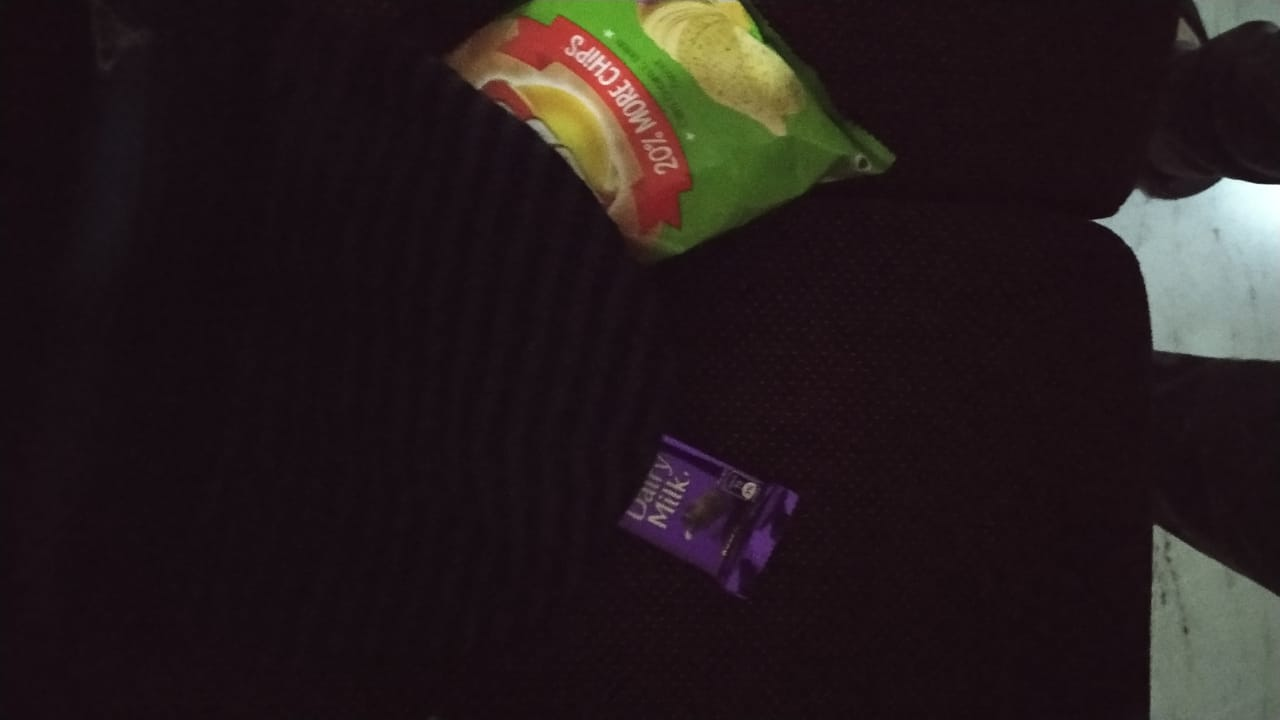dairy milk: (604, 423, 821, 598)
lays chips: (465, 1, 895, 282)
